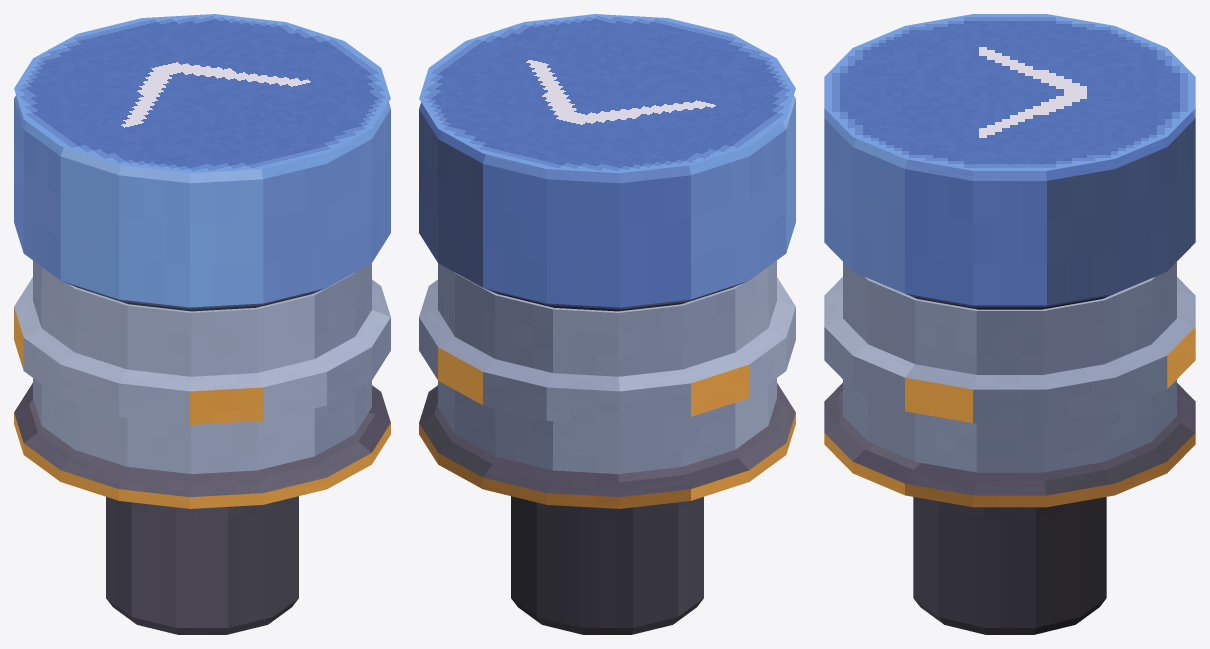
Rendered from rot_support.glb.
3 views of the same model, side by side, from view 1: azimuth 30°, elevation 25°; view 2: azimuth 150°, elevation 25°; view 3: azimuth 270°, elevation 25° (orthographic).
Parts seen in each view (by area): view 1: rot_support_body, rot_support_stator, rot_support_sleeve, rot_support_foot; view 2: rot_support_body, rot_support_stator, rot_support_sleeve, rot_support_foot; view 3: rot_support_body, rot_support_stator, rot_support_sleeve, rot_support_foot.
Boxes of the visible parts, x1=… form: rot_support_body: x1=14, y1=14, x2=390, y2=311; rot_support_stator: x1=14, y1=260, x2=390, y2=473; rot_support_sleeve: x1=106, y1=496, x2=298, y2=634; rot_support_foot: x1=14, y1=383, x2=390, y2=508; rot_support_body: x1=419, y1=14, x2=795, y2=311; rot_support_stator: x1=419, y1=260, x2=795, y2=473; rot_support_sleeve: x1=511, y1=496, x2=703, y2=634; rot_support_foot: x1=419, y1=383, x2=795, y2=508; rot_support_body: x1=824, y1=14, x2=1195, y2=309; rot_support_stator: x1=824, y1=262, x2=1195, y2=472; rot_support_sleeve: x1=913, y1=497, x2=1106, y2=634; rot_support_foot: x1=824, y1=383, x2=1195, y2=507.
Size of the model in its own units: 1 by 1.5 by 1.
Materials: 1 (1 with a texture image).
